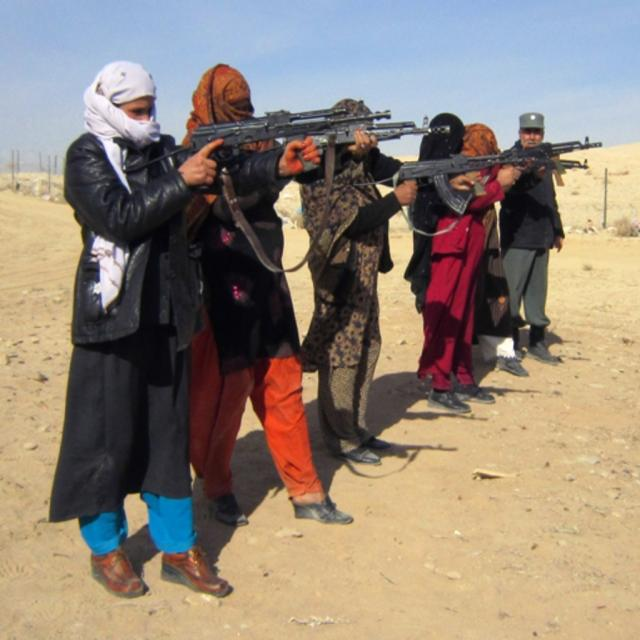no_helmet: (194, 69, 270, 147), (84, 79, 164, 137), (410, 93, 466, 169), (511, 115, 565, 166)
